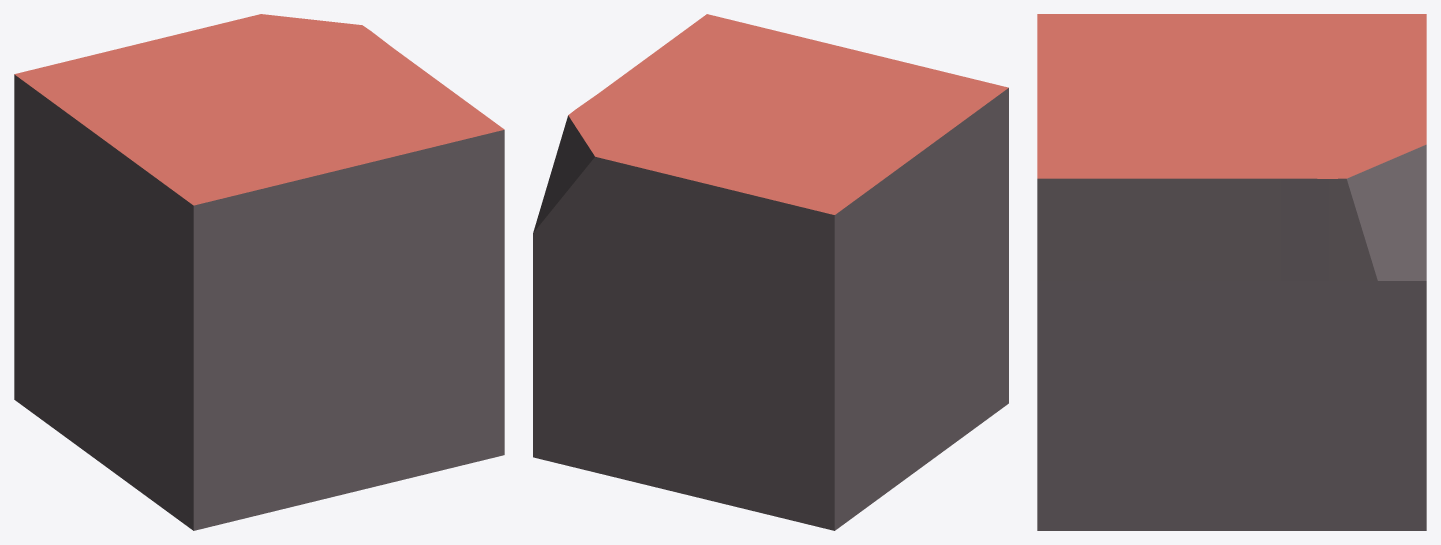
The model's file is corner 4.fbx.
3 views of the same model, side by side, from view 1: azimuth 30°, elevation 25°; view 2: azimuth 150°, elevation 25°; view 3: azimuth 270°, elevation 25° (orthographic). The views are drawn at different scales.
Visible parts, largest first — view 1: corner 4; view 2: corner 4; view 3: corner 4.
Part boxes in pixels (box(x1,y1,x2,y2)): corner 4: box(14, 14, 504, 530); corner 4: box(533, 14, 1008, 530); corner 4: box(1037, 14, 1426, 530).
Size of the model in its own units: 201 by 200 by 200.
